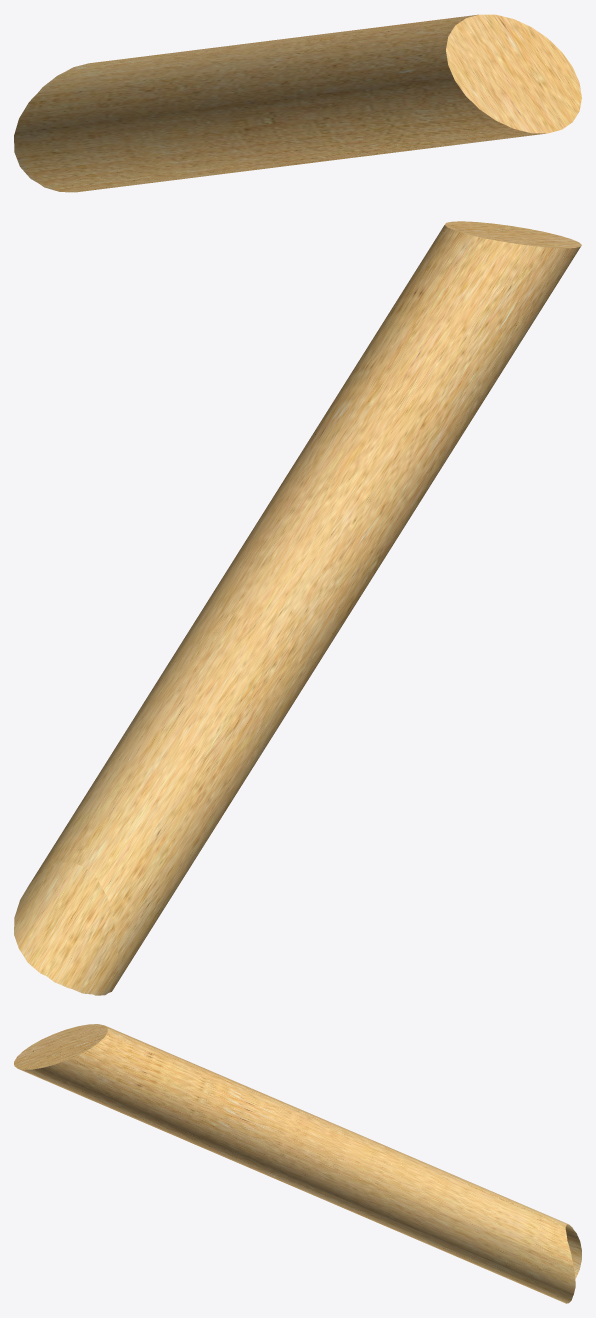
The model's file is original-3.obj.
The picture shows the model from 3 angles, top to bottom: view 1: azimuth 30°, elevation 25°; view 2: azimuth 150°, elevation 25°; view 3: azimuth 270°, elevation 25°; orthographic projection. The views are drawn at different scales.
Visible parts, largest first — view 1: Group3/mesh4/mesh4-geometry#mesh4-geometry; view 2: Group3/mesh4/mesh4-geometry#mesh4-geometry; view 3: Group3/mesh4/mesh4-geometry#mesh4-geometry.
Part boxes in pixels (x1,y1,x2,y2): Group3/mesh4/mesh4-geometry#mesh4-geometry: (14, 14, 581, 192); Group3/mesh4/mesh4-geometry#mesh4-geometry: (14, 221, 581, 995); Group3/mesh4/mesh4-geometry#mesh4-geometry: (14, 1024, 581, 1303).
Bounding box in the file's own units: 0.1545 × 0.6268 × 1.19.
